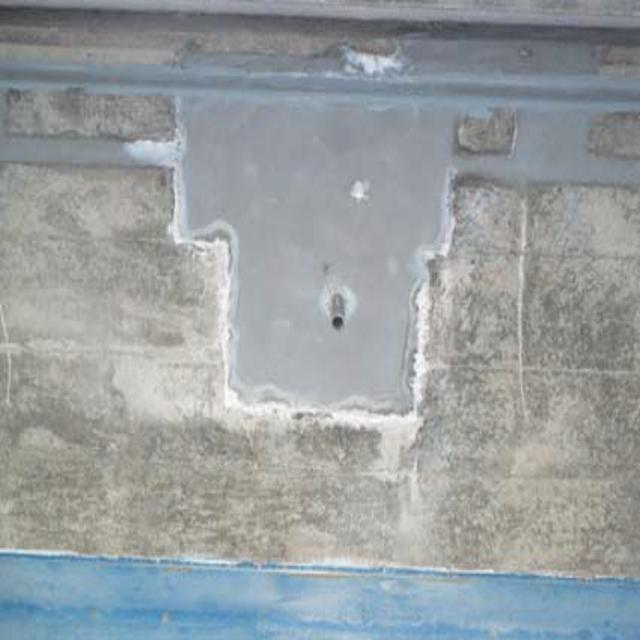freelime: (156, 111, 241, 423), (407, 180, 463, 466)
